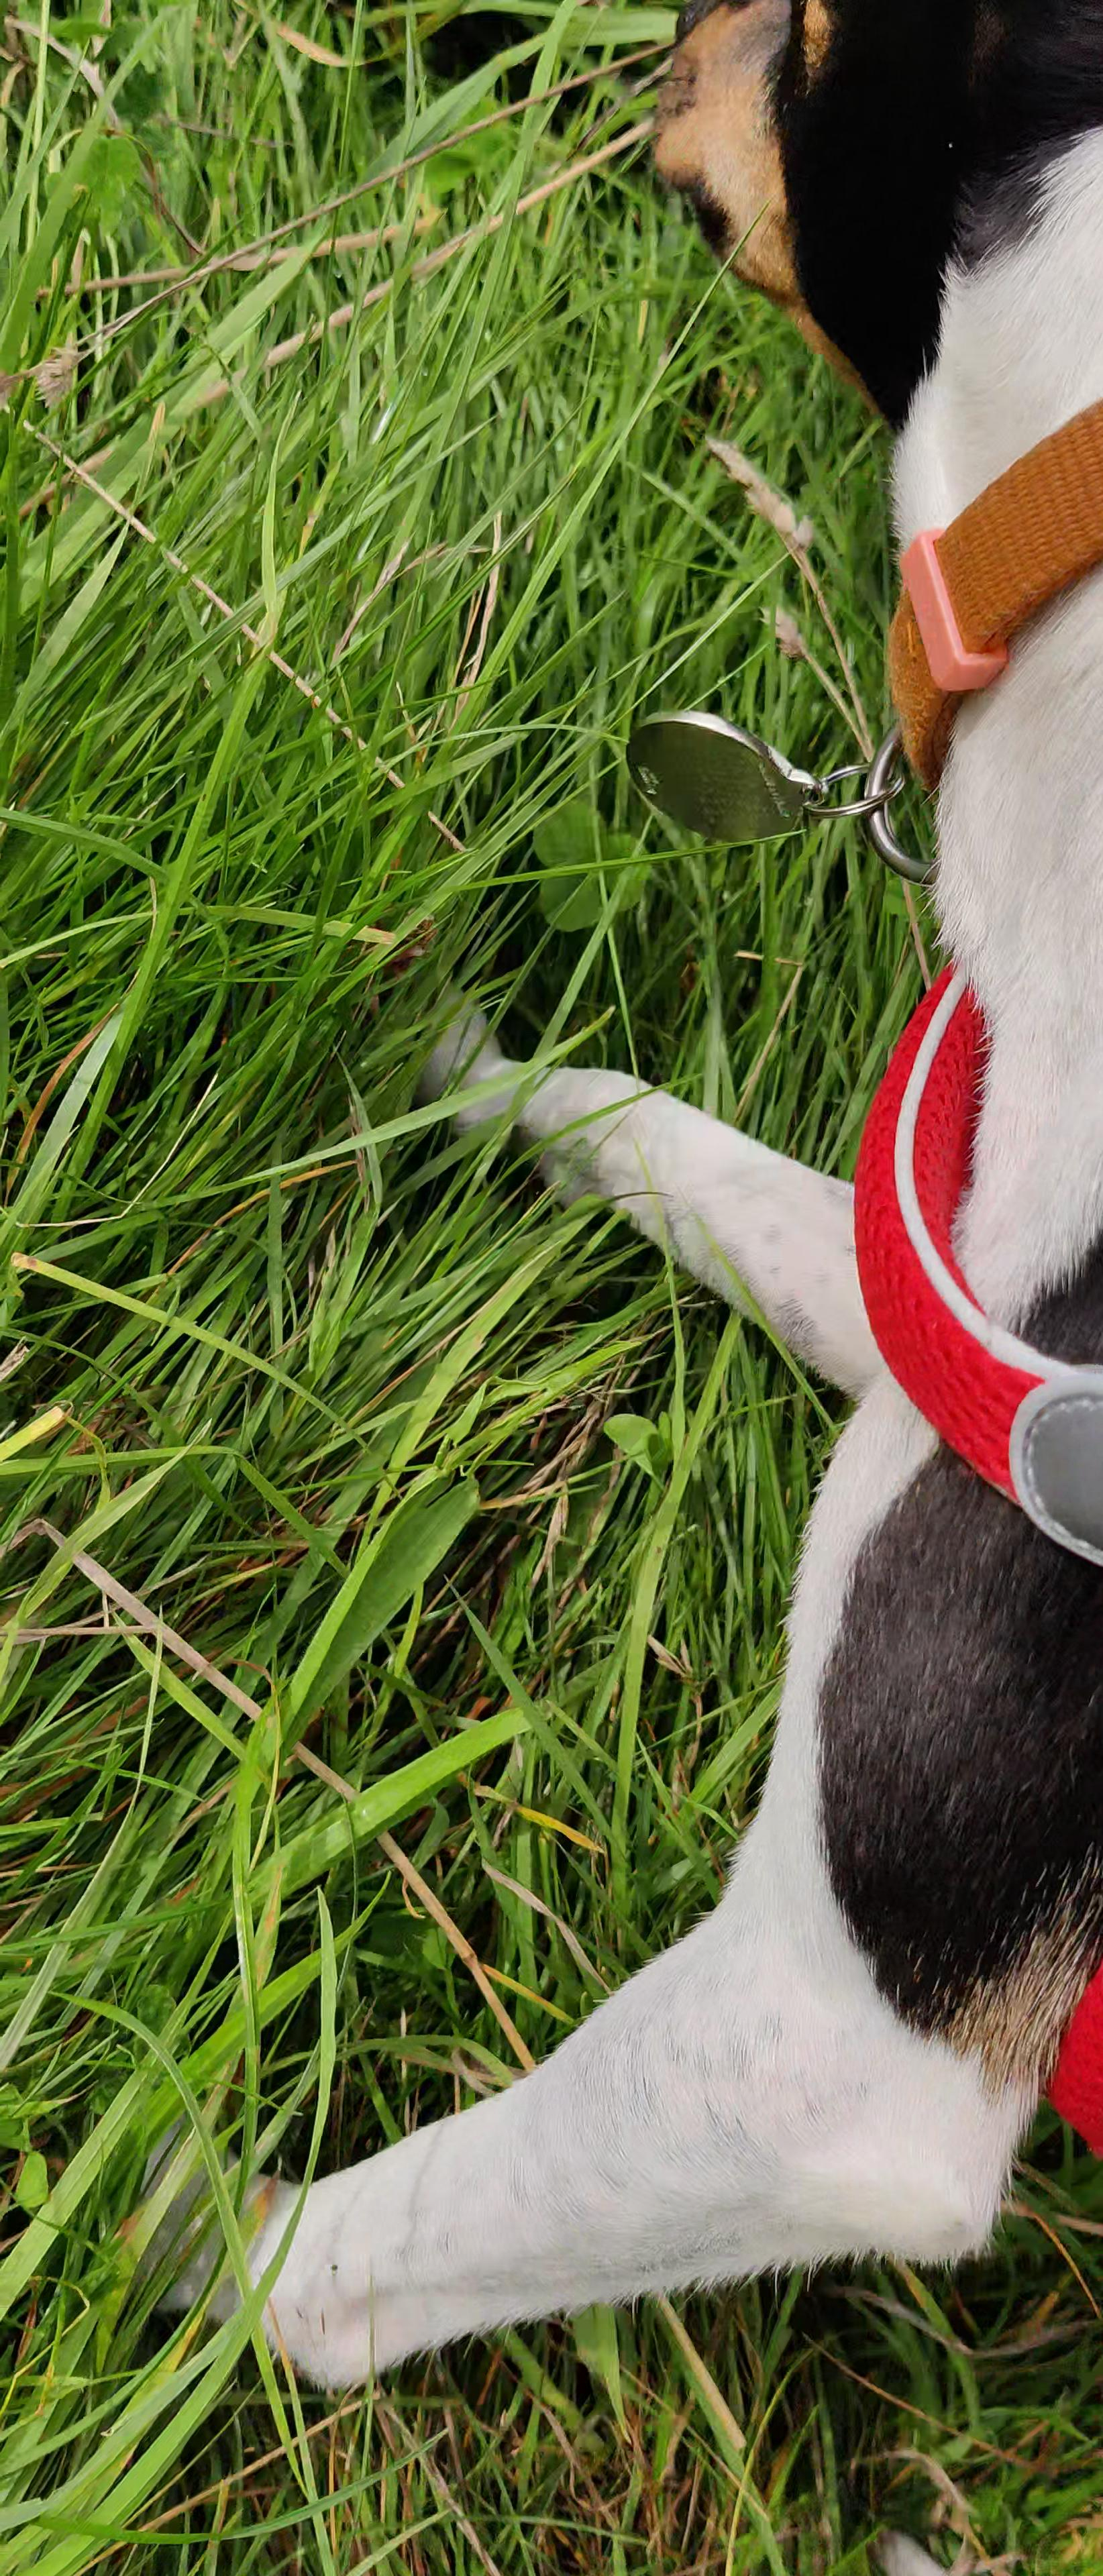Dog: (76, 0, 1103, 2395)
